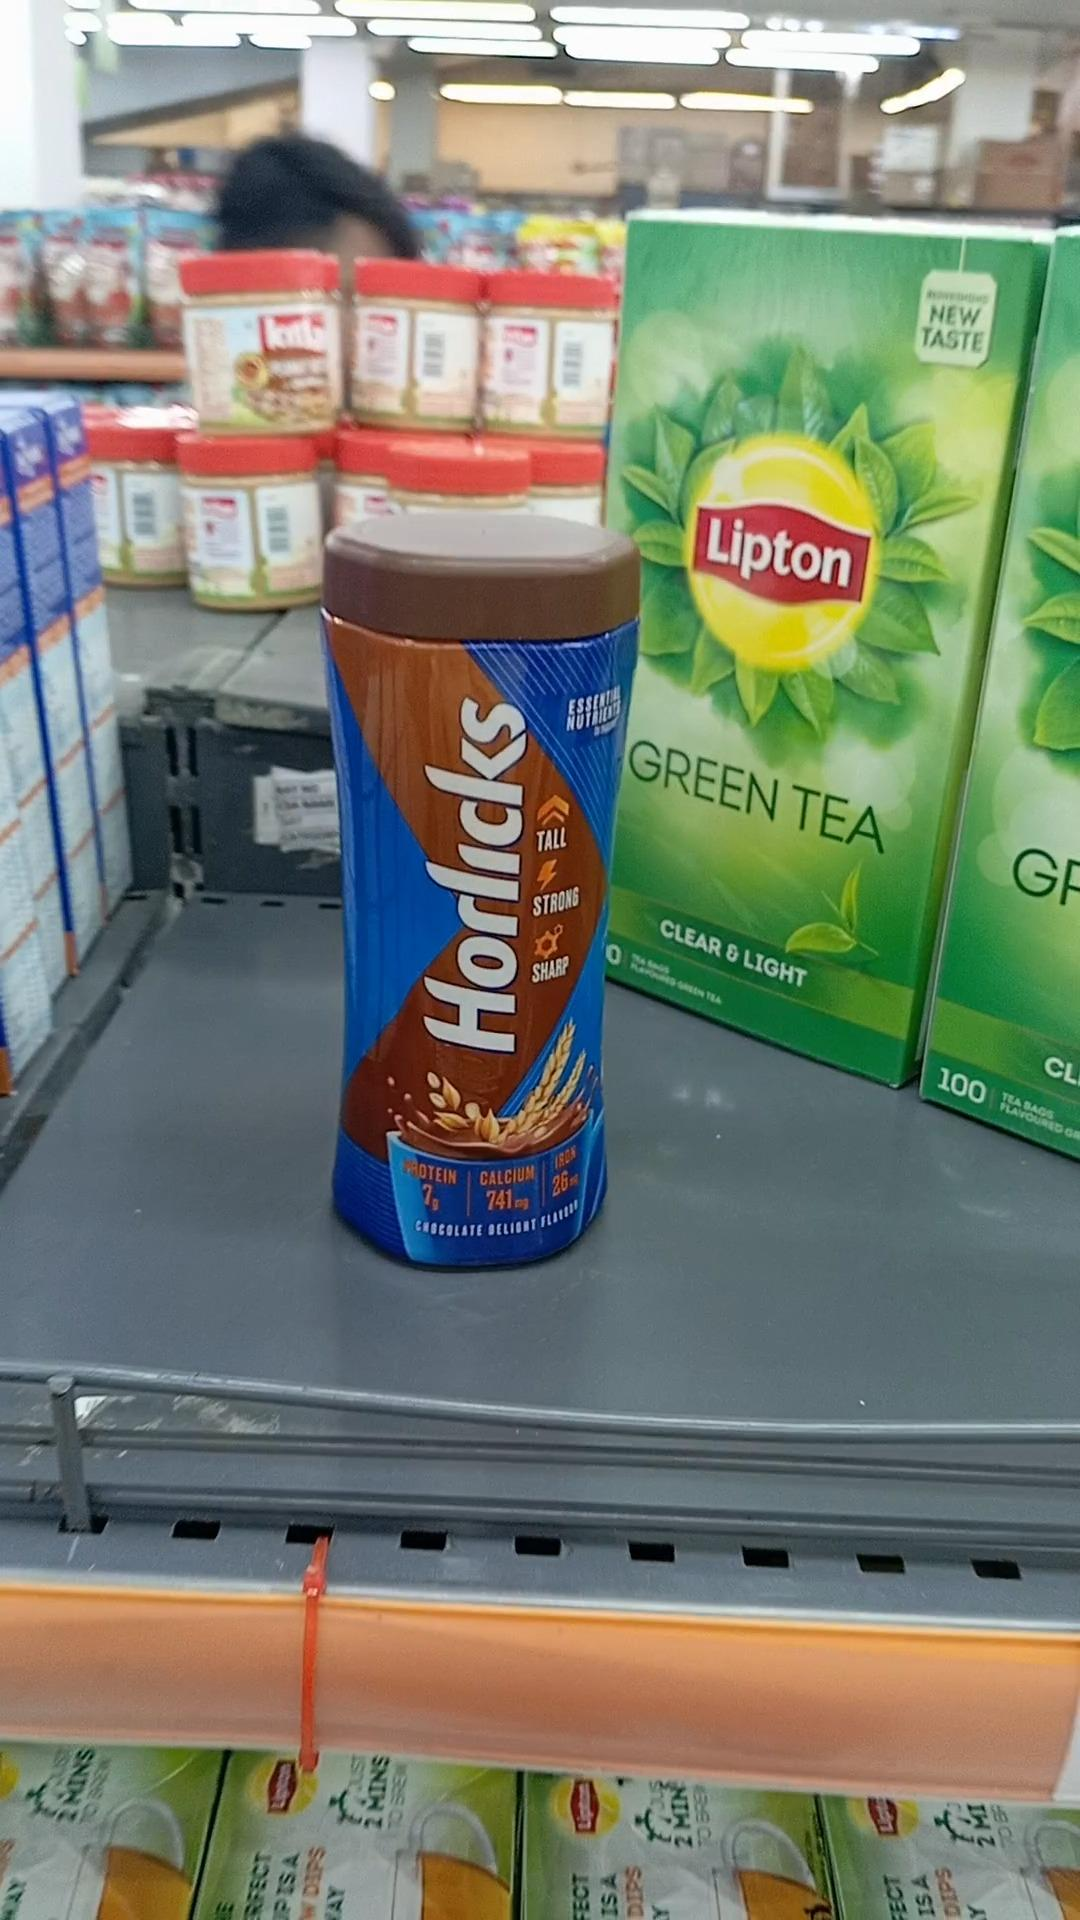HORLICK_CHOCOLATE_500_G_JAR: (331, 514, 605, 1258)
